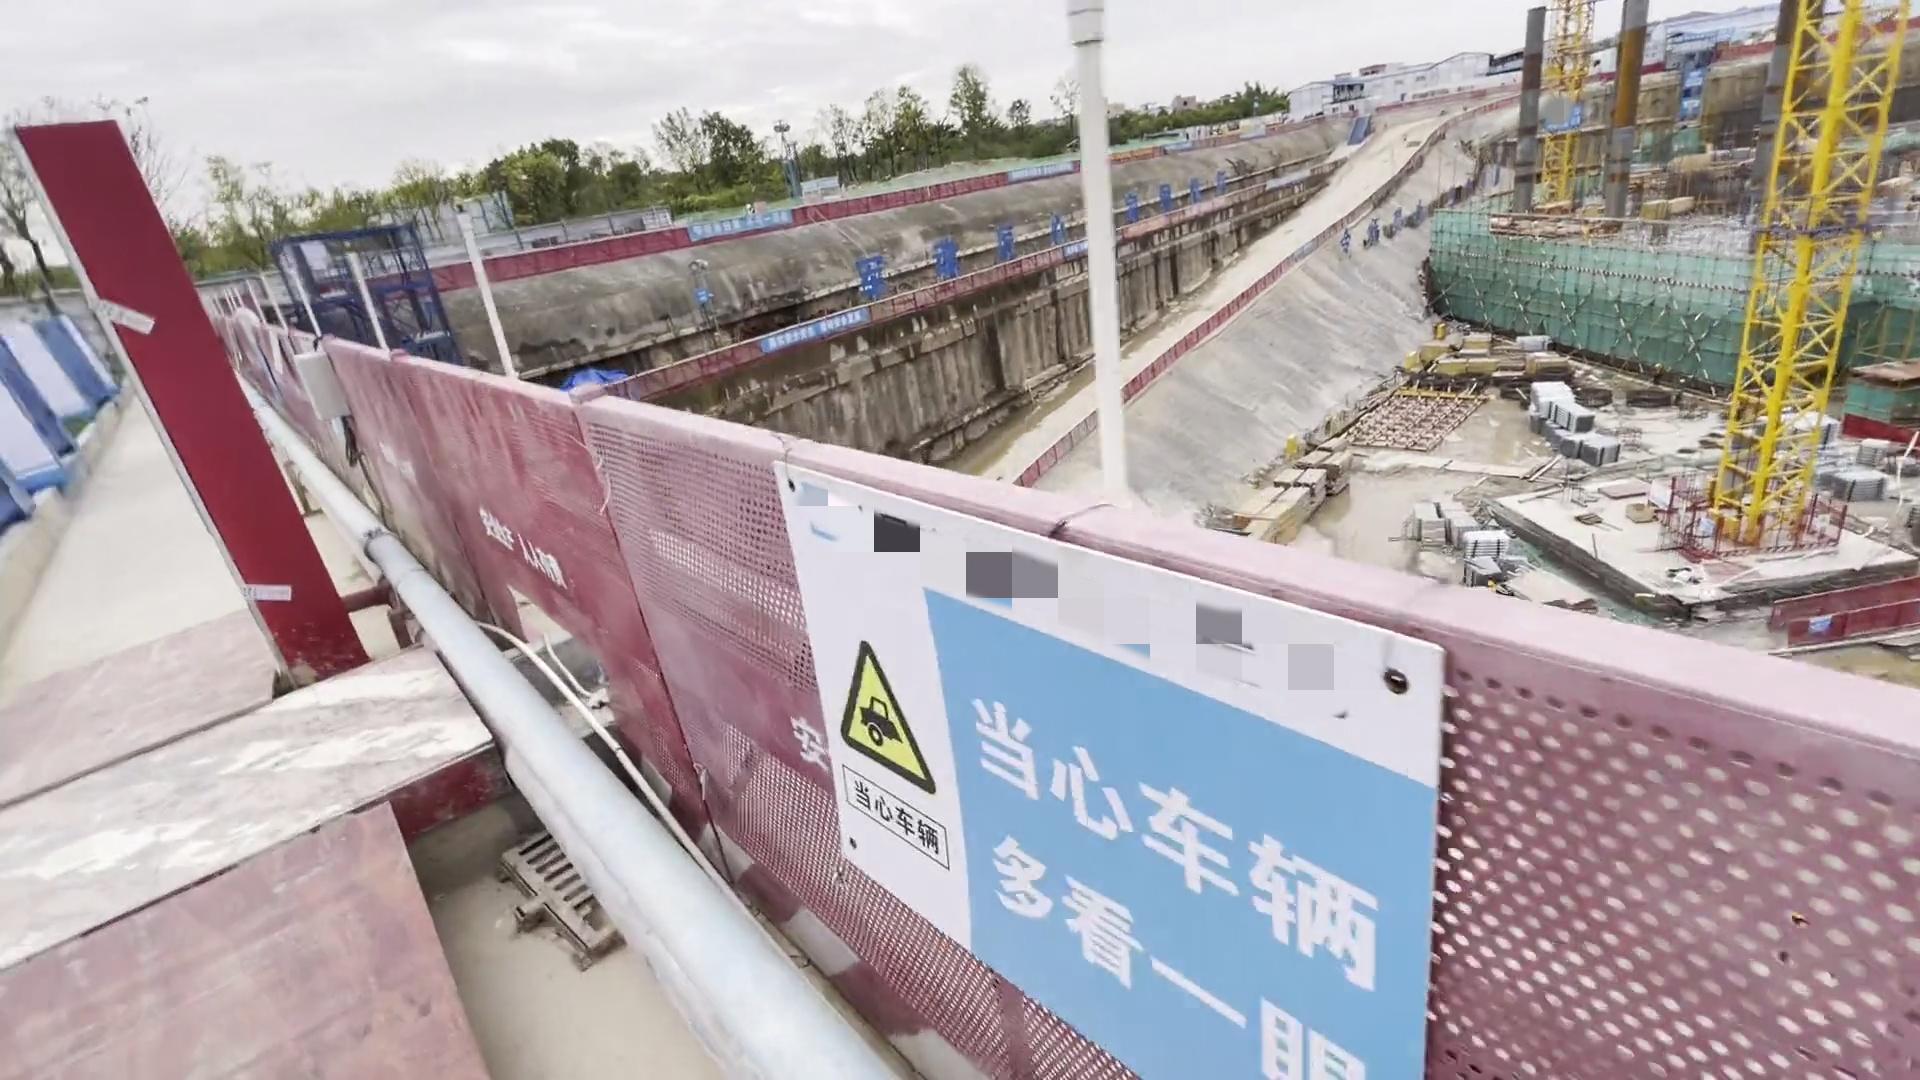fence: (295, 330, 1920, 1080)
